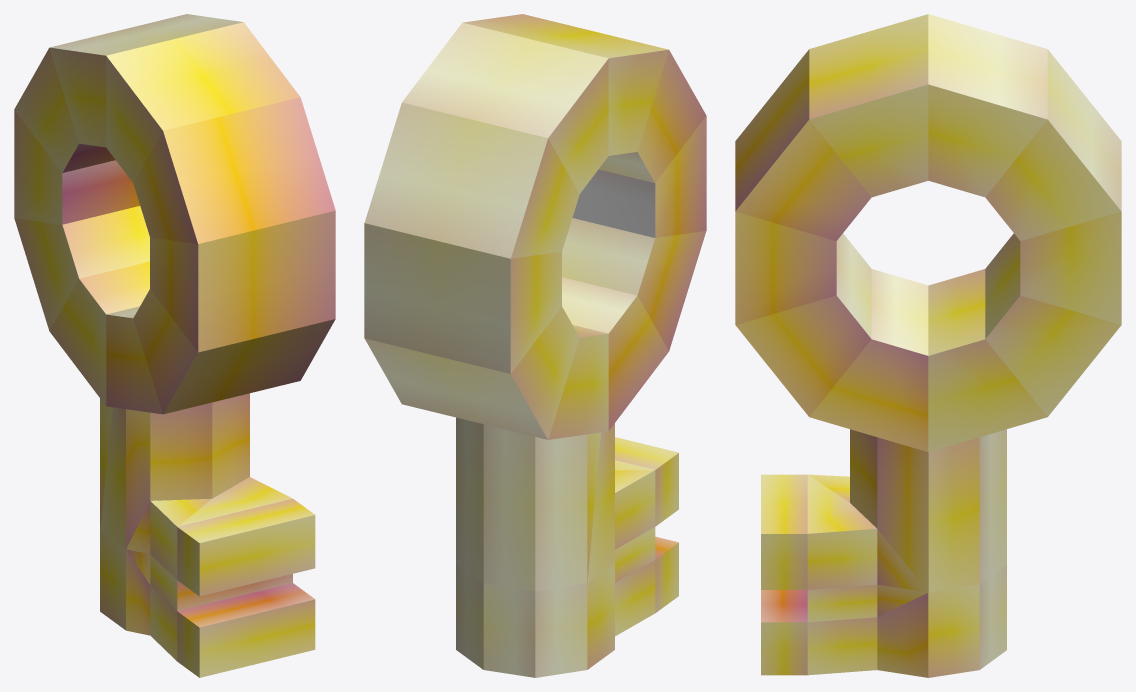
Rendered from key01.fbx.
3 renders of one model, left to right at view 1: azimuth 30°, elevation 25°; view 2: azimuth 150°, elevation 25°; view 3: azimuth 270°, elevation 25°, orthographic. The views are drawn at different scales.
Parts seen in each view (by area): view 1: key01; view 2: key01; view 3: key01.
Boxes of the visible parts, x1=… form: key01: x1=14, y1=14, x2=335, y2=677; key01: x1=364, y1=14, x2=706, y2=677; key01: x1=735, y1=14, x2=1121, y2=677.
Size of the model in its own units: 27.12 by 107 by 62.82.
